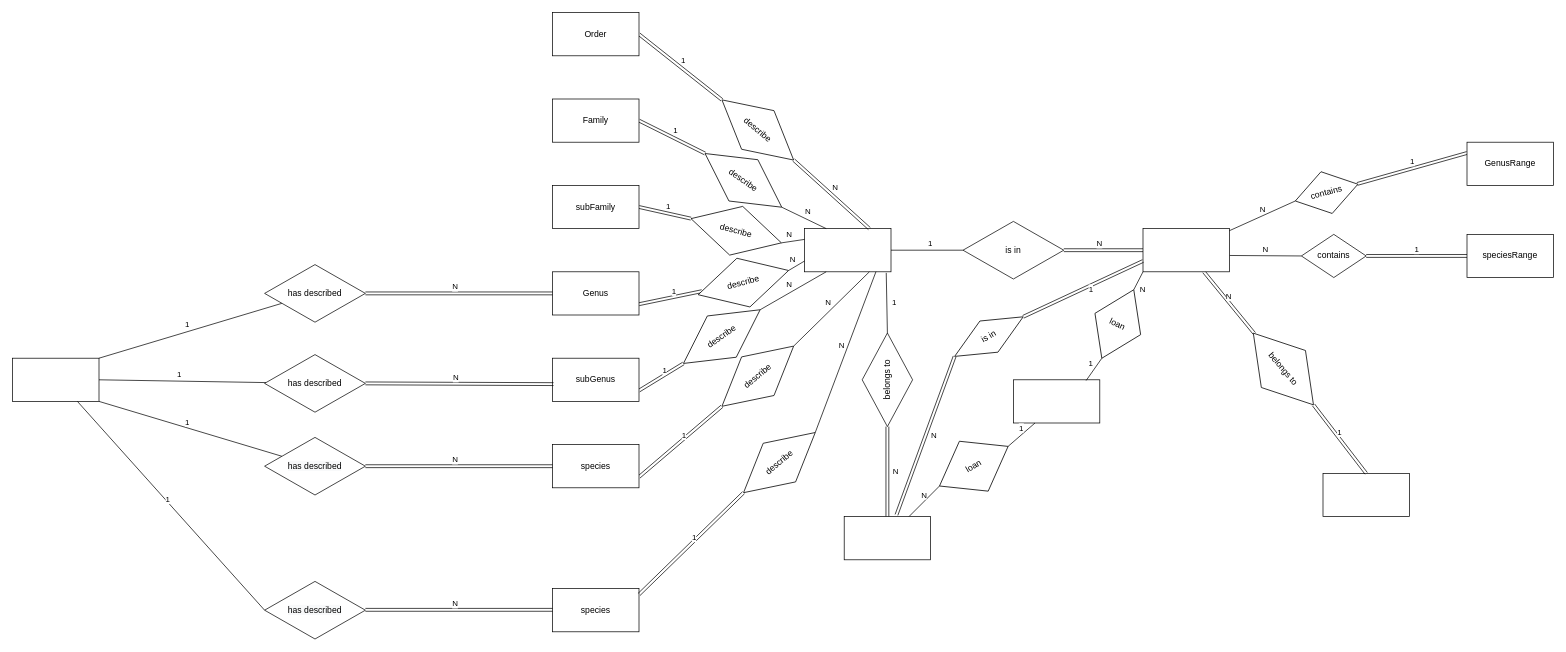
Image size: 1566x652. Some labels were removed from this diagram. The shapes that lost their labels are listed below. From the top down, each one's box as (x1, y1, x2, y2) in pixels, then its label:
(804, 228, 891, 272): Population
(1142, 228, 1229, 272): Box
(12, 357, 99, 401): Scientific
(1013, 379, 1100, 423): loaner
(1322, 473, 1409, 517): Collection
(843, 516, 931, 560): Individu
